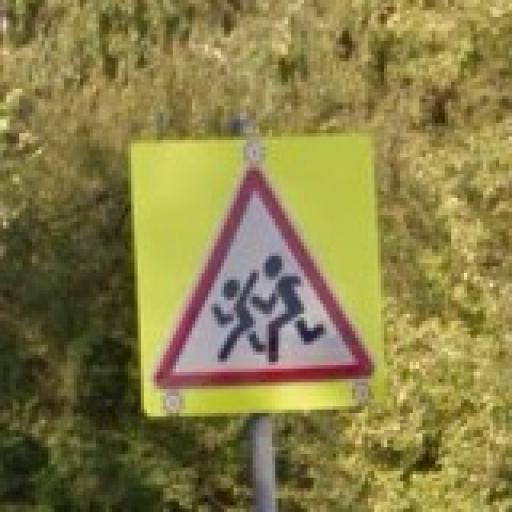traffic_sign: (155, 168, 379, 394)
